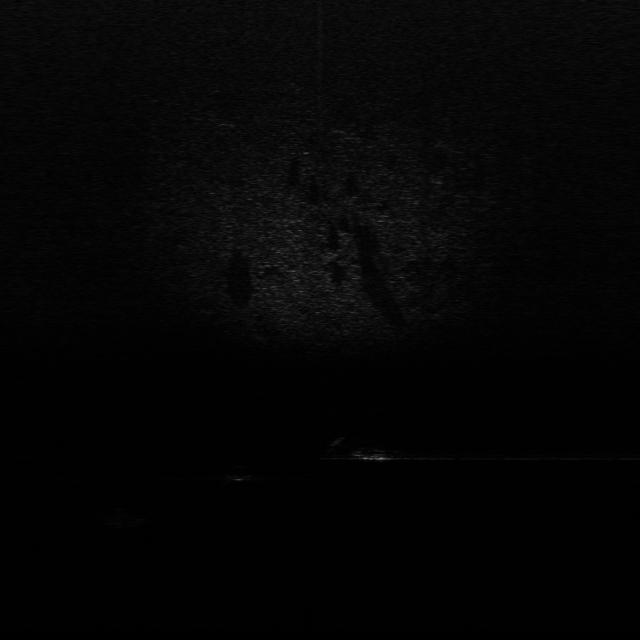ball: (224, 463, 257, 482)
circle cage: (100, 507, 150, 529)
human body: (327, 431, 409, 464)
